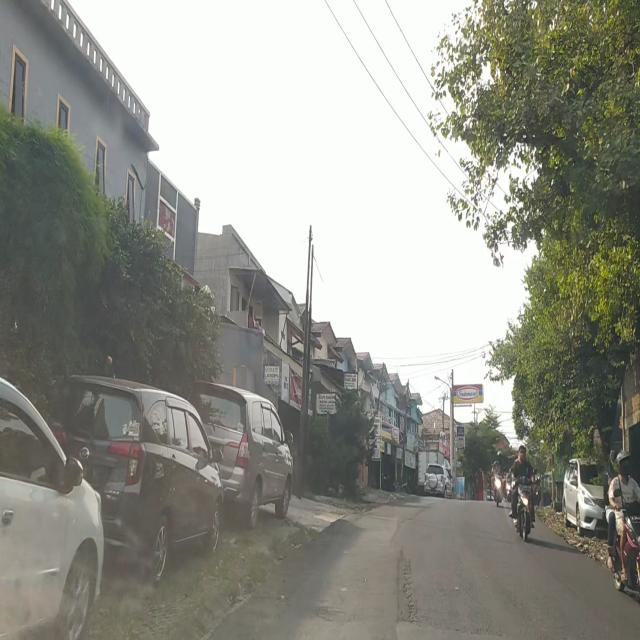Drain Hole: (398, 548, 418, 622)
